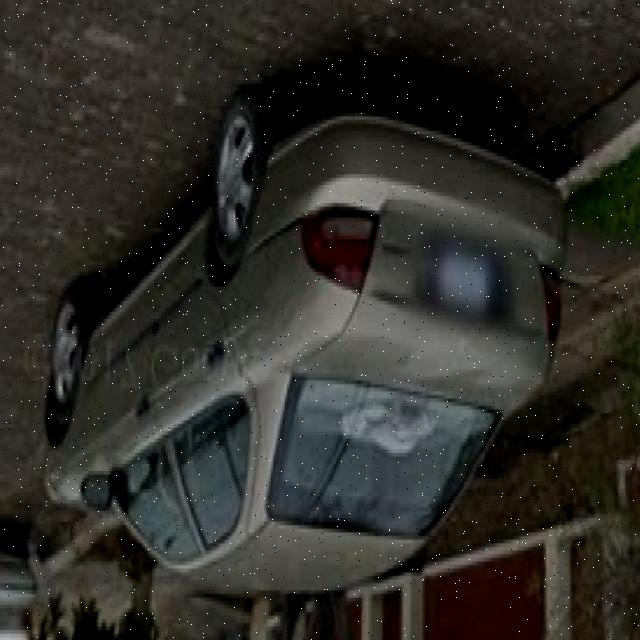car: (40, 93, 563, 590)
